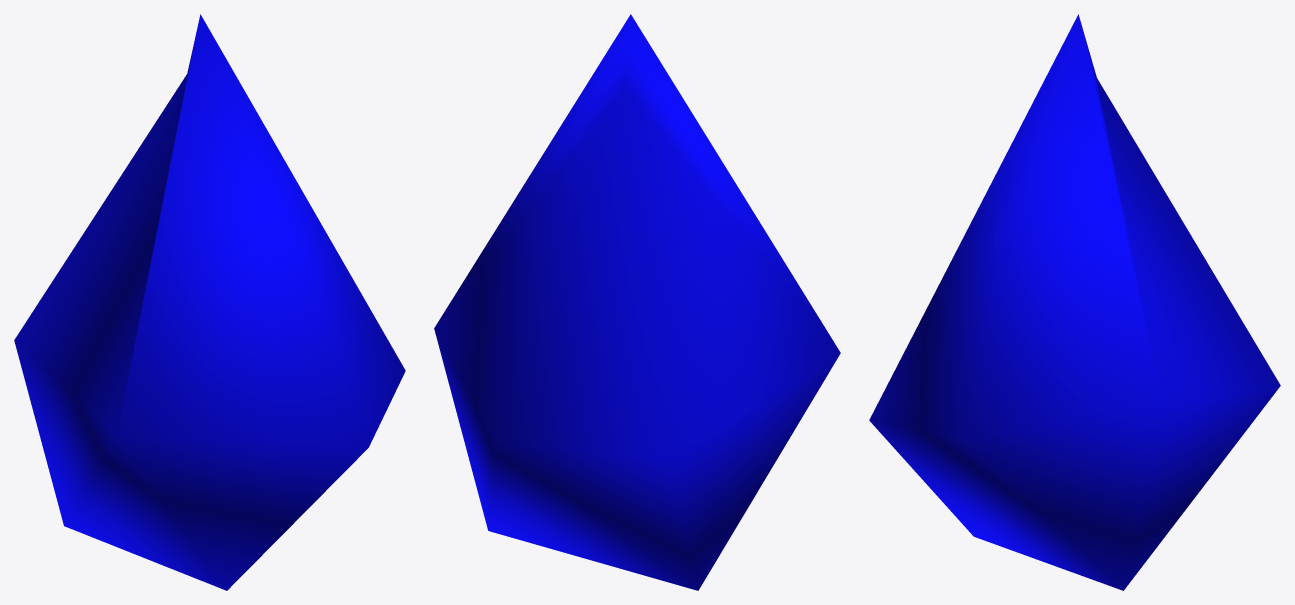
File: drop.obj
The picture shows the model from 3 angles, left to right: view 1: azimuth 30°, elevation 25°; view 2: azimuth 150°, elevation 25°; view 3: azimuth 270°, elevation 25°; orthographic projection. The views are drawn at different scales.
Parts seen in each view (by area): view 1: Drops; view 2: Drops; view 3: Drops.
Boxes of the visible parts, x1,y1,x2,y2 form: Drops: (14,14,405,590); Drops: (434,14,840,590); Drops: (869,14,1280,590).
Size of the model in its own units: 0.0229 by 0.0395 by 0.0275.
